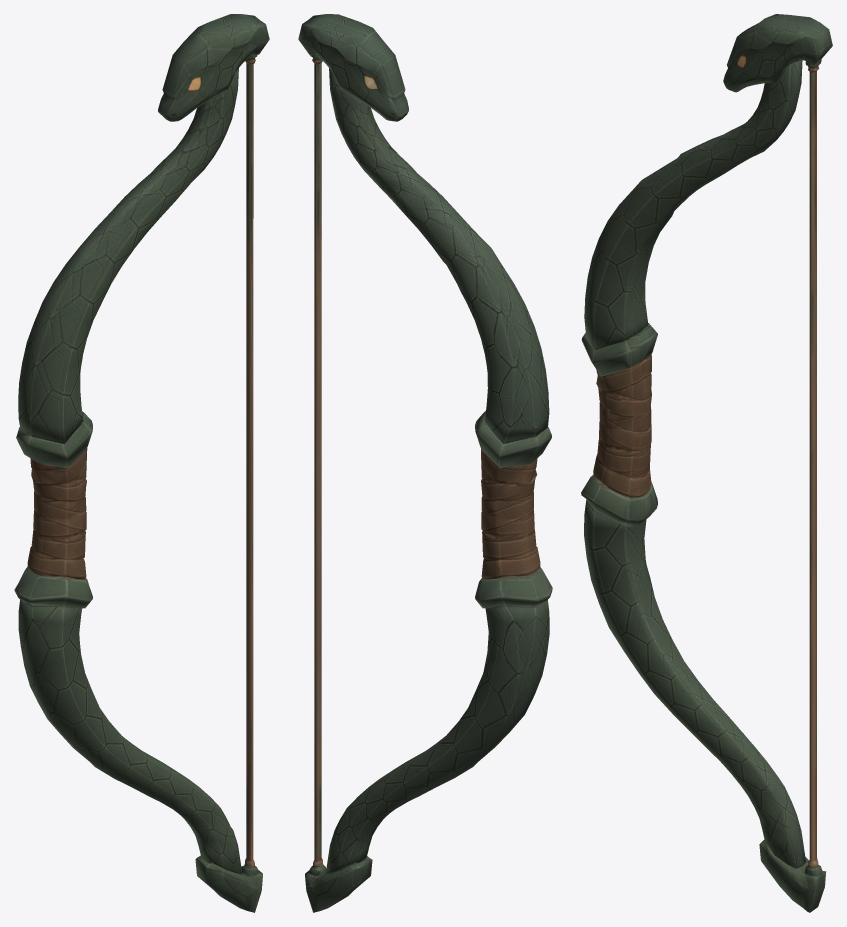
The model's file is serpents-coil-bow-i1_i23d.glb.
3 views of the same model, side by side, from view 1: azimuth 30°, elevation 25°; view 2: azimuth 150°, elevation 25°; view 3: azimuth 330°, elevation 25° (orthographic).
Bounding box in the file's own units: 0.2739 × 0.9507 × 0.0771.
Materials: 1 (1 with a texture image).
